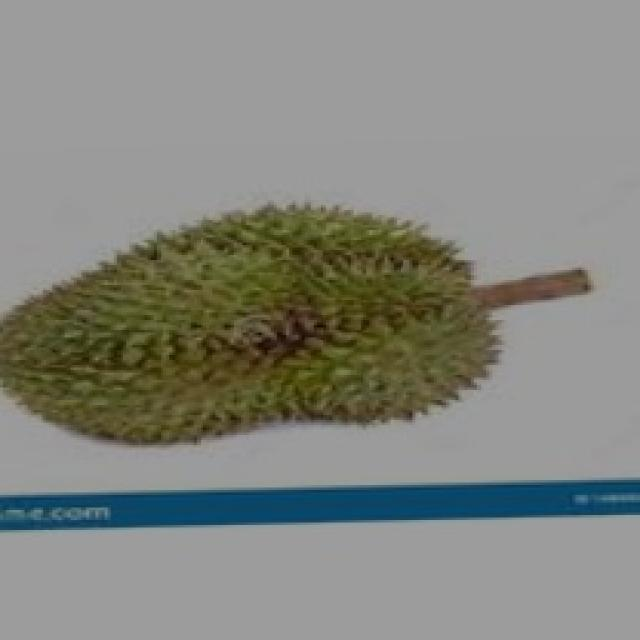fruit: (3, 155, 385, 485)
